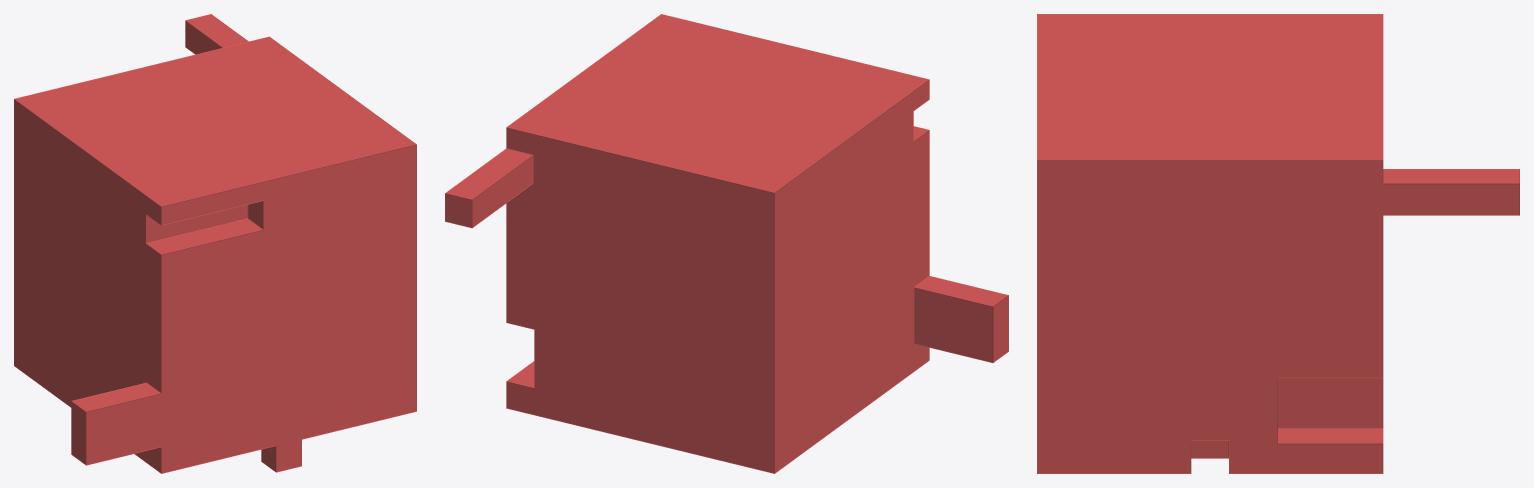
File: rep-tile_1.glb
The picture shows the model from 3 angles, left to right: view 1: azimuth 30°, elevation 25°; view 2: azimuth 150°, elevation 25°; view 3: azimuth 270°, elevation 25°; orthographic projection. The views are drawn at different scales.
Visible parts, largest first — view 1: Cube; view 2: Cube; view 3: Cube.
Boxes of the visible parts, x1,y1,x2,y2 form: Cube: (14,14,416,473); Cube: (445,14,1008,473); Cube: (1037,14,1519,473).
Size of the model in its own units: 2.59 by 2.2 by 2.79.
